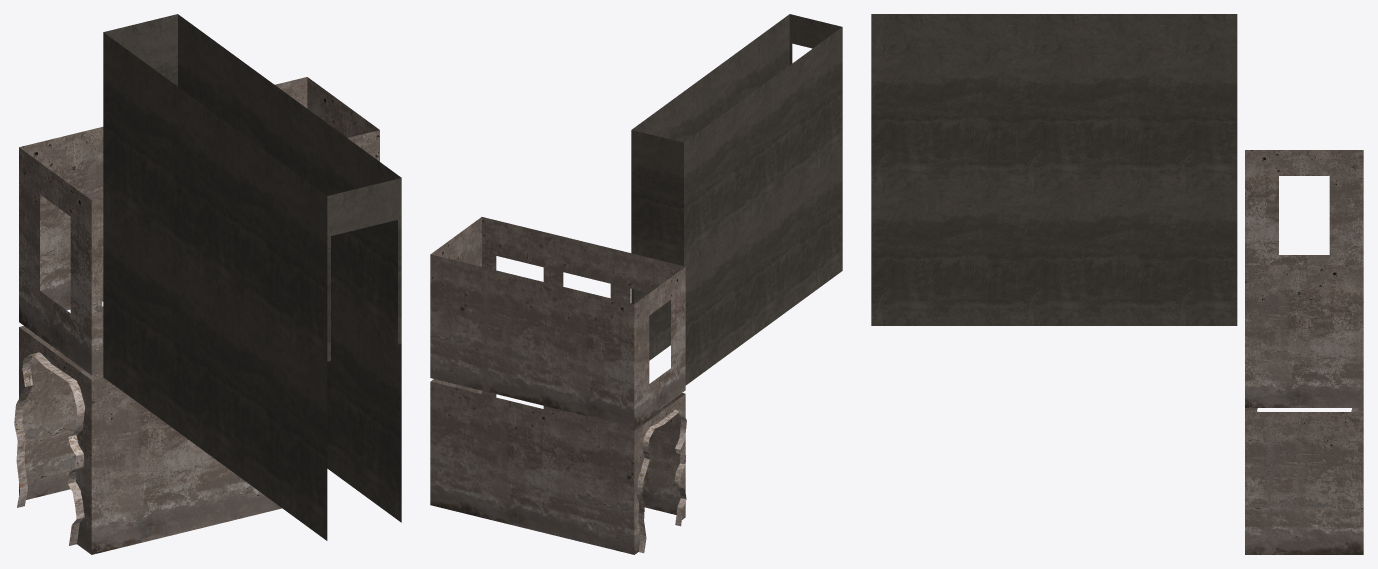
File: A2_LobbyWalls.FBX
The picture shows the model from 3 angles, left to right: view 1: azimuth 30°, elevation 25°; view 2: azimuth 150°, elevation 25°; view 3: azimuth 270°, elevation 25°; orthographic projection. The views are drawn at different scales.
Parts seen in each view (by area): view 1: A2_LobbyWalls; view 2: A2_LobbyWalls; view 3: A2_LobbyWalls.
Part boxes in pixels (left/top/right/bottom): A2_LobbyWalls: left=14, top=14, right=401, bottom=554; A2_LobbyWalls: left=430, top=14, right=842, bottom=554; A2_LobbyWalls: left=871, top=14, right=1363, bottom=554.
Bounding box in the file's own units: 553 × 936 × 974.
3 materials, 3 textured.
